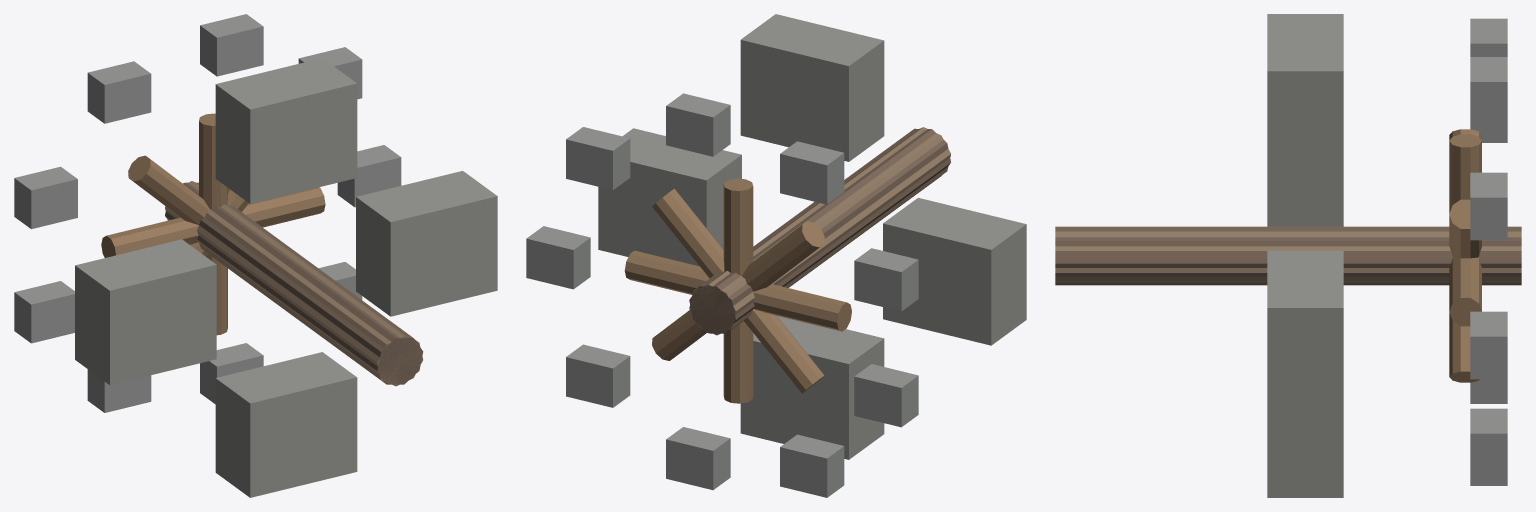
File: SM_Campfire.glb
The picture shows the model from 3 angles, left to right: view 1: azimuth 30°, elevation 25°; view 2: azimuth 150°, elevation 25°; view 3: azimuth 270°, elevation 25°; orthographic projection. The views are drawn at different scales.
Parts seen in each view (by area): view 1: SM_Campfire_000, SM_Campfire_001, SM_Campfire_003, SM_Campfire_002, SM_Campfire_004, SM_Campfire_005, SM_Campfire_015, SM_Campfire_009, SM_Campfire_008, SM_Campfire_010, SM_Campfire_011, SM_Campfire_017 (+7 smaller); view 2: SM_Campfire_000, SM_Campfire_003, SM_Campfire_001, SM_Campfire_002, SM_Campfire_004, SM_Campfire_005, SM_Campfire_016, SM_Campfire_015, SM_Campfire_017, SM_Campfire_018, SM_Campfire_011, SM_Campfire_012 (+8 smaller); view 3: SM_Campfire_005, SM_Campfire_002, SM_Campfire_004, SM_Campfire_000, SM_Campfire_001, SM_Campfire_003, SM_Campfire_006, SM_Campfire_007, SM_Campfire_014, SM_Campfire_008, SM_Campfire_015, SM_Campfire_017 (+6 smaller).
Part boxes in pixels (x1,y1,x2,y2): SM_Campfire_000: (215, 58, 357, 203); SM_Campfire_001: (215, 352, 357, 497); SM_Campfire_003: (75, 239, 216, 384); SM_Campfire_002: (356, 171, 497, 316); SM_Campfire_004: (165, 182, 423, 384); SM_Campfire_005: (165, 181, 423, 386); SM_Campfire_015: (101, 187, 325, 257); SM_Campfire_009: (87, 61, 151, 123); SM_Campfire_008: (200, 14, 263, 76); SM_Campfire_010: (14, 166, 77, 229); SM_Campfire_011: (14, 281, 74, 343); SM_Campfire_017: (199, 113, 227, 335); SM_Campfire_000: (740, 14, 884, 161); SM_Campfire_003: (883, 197, 1026, 345); SM_Campfire_001: (740, 316, 884, 459); SM_Campfire_002: (598, 128, 741, 266); SM_Campfire_004: (689, 128, 950, 333); SM_Campfire_005: (689, 127, 950, 335); SM_Campfire_016: (652, 188, 824, 393); SM_Campfire_015: (624, 250, 851, 331); SM_Campfire_017: (723, 178, 753, 403); SM_Campfire_018: (652, 221, 824, 360); SM_Campfire_011: (854, 364, 918, 427); SM_Campfire_012: (780, 434, 844, 497); SM_Campfire_005: (1055, 226, 1521, 285); SM_Campfire_002: (1267, 250, 1343, 411); SM_Campfire_004: (1055, 227, 1521, 282); SM_Campfire_000: (1267, 14, 1343, 174); SM_Campfire_001: (1267, 412, 1343, 497); SM_Campfire_003: (1267, 175, 1343, 226); SM_Campfire_006: (1470, 311, 1507, 379); SM_Campfire_007: (1470, 172, 1507, 240); SM_Campfire_014: (1470, 408, 1507, 476); SM_Campfire_008: (1470, 57, 1507, 124); SM_Campfire_015: (1449, 257, 1481, 326); SM_Campfire_017: (1449, 134, 1481, 213).
Size of the model in its own units: 1.16 by 1.11 by 1.1.
